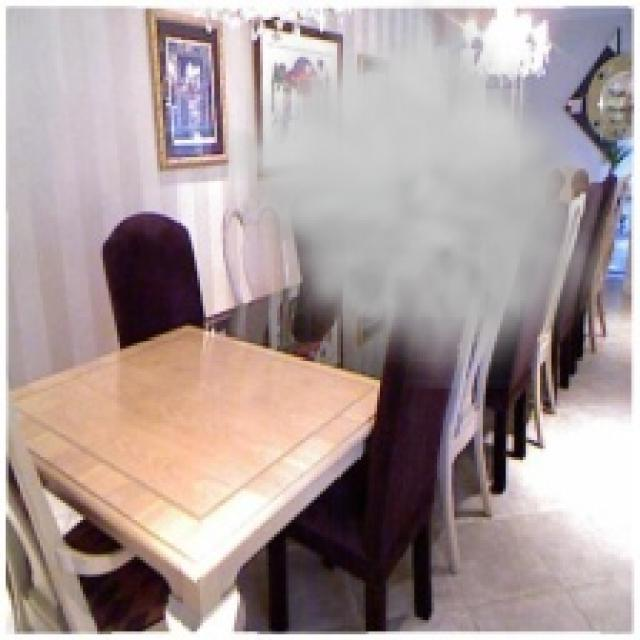smoke: (226, 0, 608, 389)
